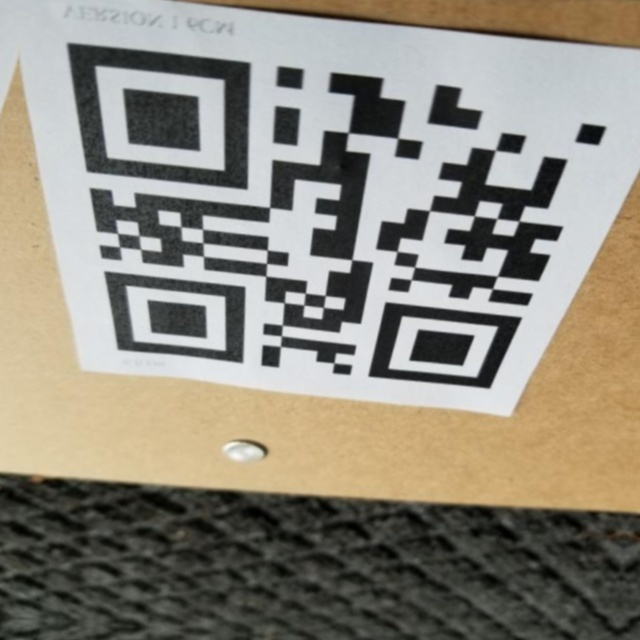qr-code: (29, 27, 634, 412)
